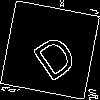D: (25, 25, 80, 83)
